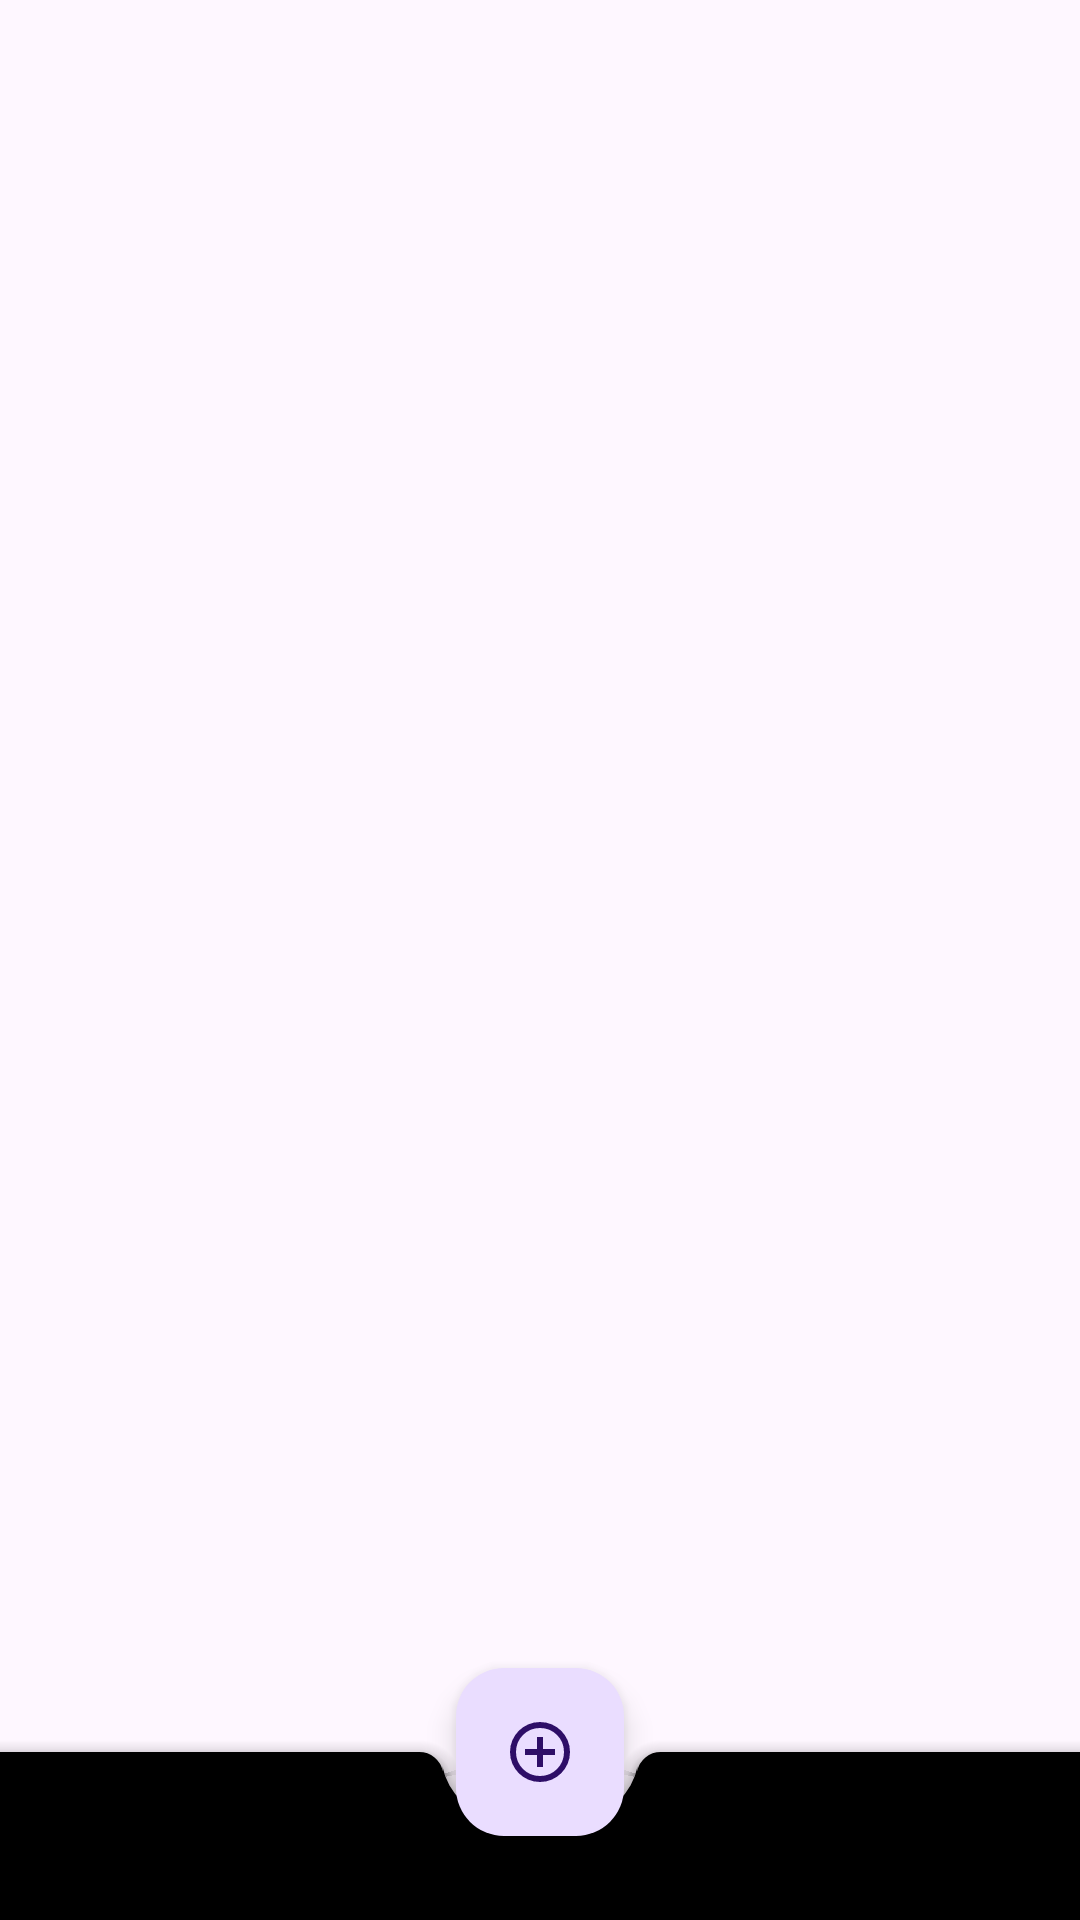

Where to tap for icons on this 1080 × 1920 app screen, as (x,y):
add circle: (540,1752)
